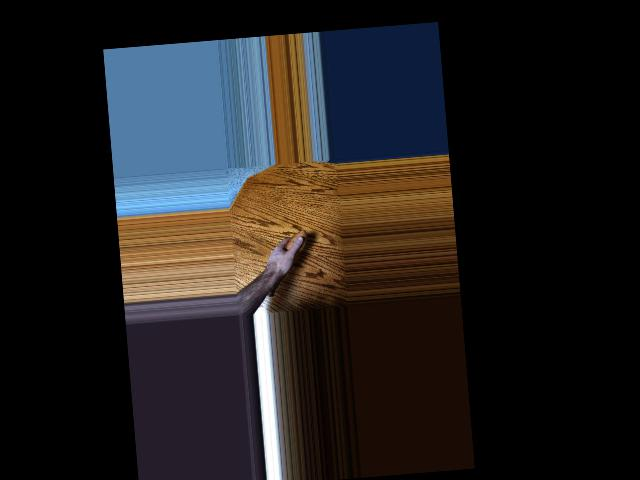sweet_potato: (263, 228, 312, 296)
